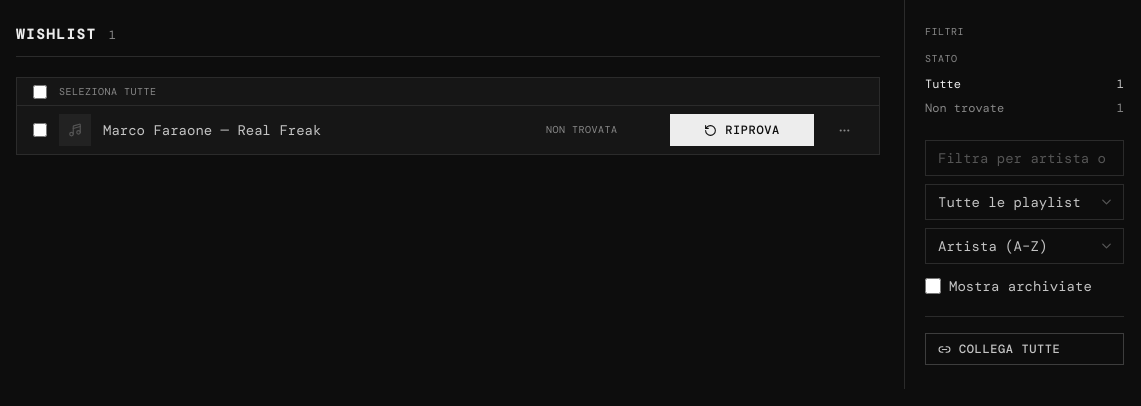
Test: wishlist: seleziona tutte › nella vista archiviate non c'e' selezione, quindi nemmeno la testa
The image size is (1141, 406).
expect the link "Marco Faraone — Real Freak" is shown: met, box [103,121,321,139]
Click the checkbox labelled "Mostra archiviate".
click(933, 286)  # box [925,278,941,294]
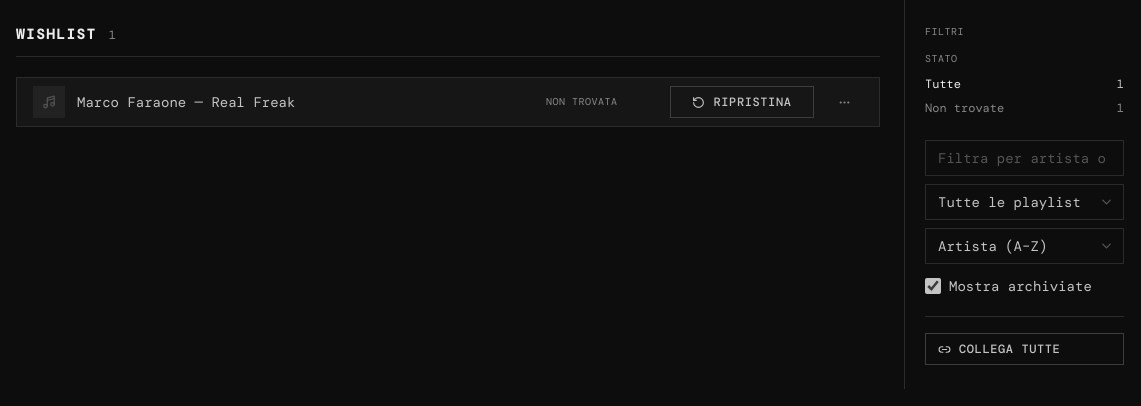
expect the button "Ripristina" is shown: met, box [670,86,814,118]
